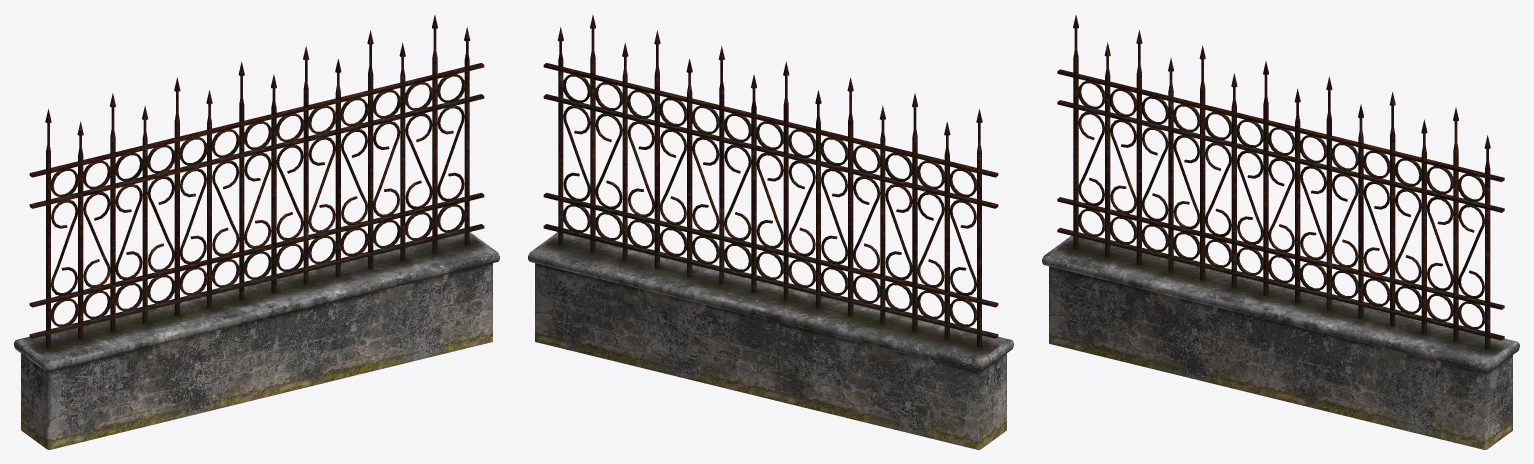
Rendered from SM_fence_08.fbx.
3 views of the same model, side by side, from view 1: azimuth 30°, elevation 25°; view 2: azimuth 150°, elevation 25°; view 3: azimuth 330°, elevation 25° (orthographic).
Parts seen in each view (by area): view 1: SM_fence_08; view 2: SM_fence_08; view 3: SM_fence_08.
Boxes of the visible parts, x1,y1,x2,y2 form: SM_fence_08: (14,15,499,449); SM_fence_08: (528,15,1013,449); SM_fence_08: (1042,15,1519,449).
Bounding box in the file's own units: 261 × 180 × 33.05.
